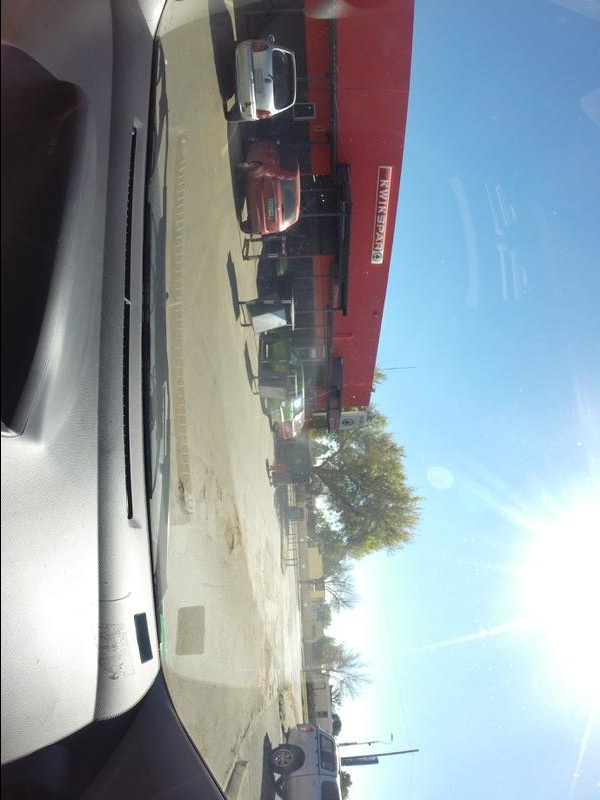pothole: (176, 476, 187, 525), (262, 642, 273, 689), (232, 507, 239, 546), (213, 477, 221, 508), (227, 524, 235, 553), (200, 487, 205, 507)
